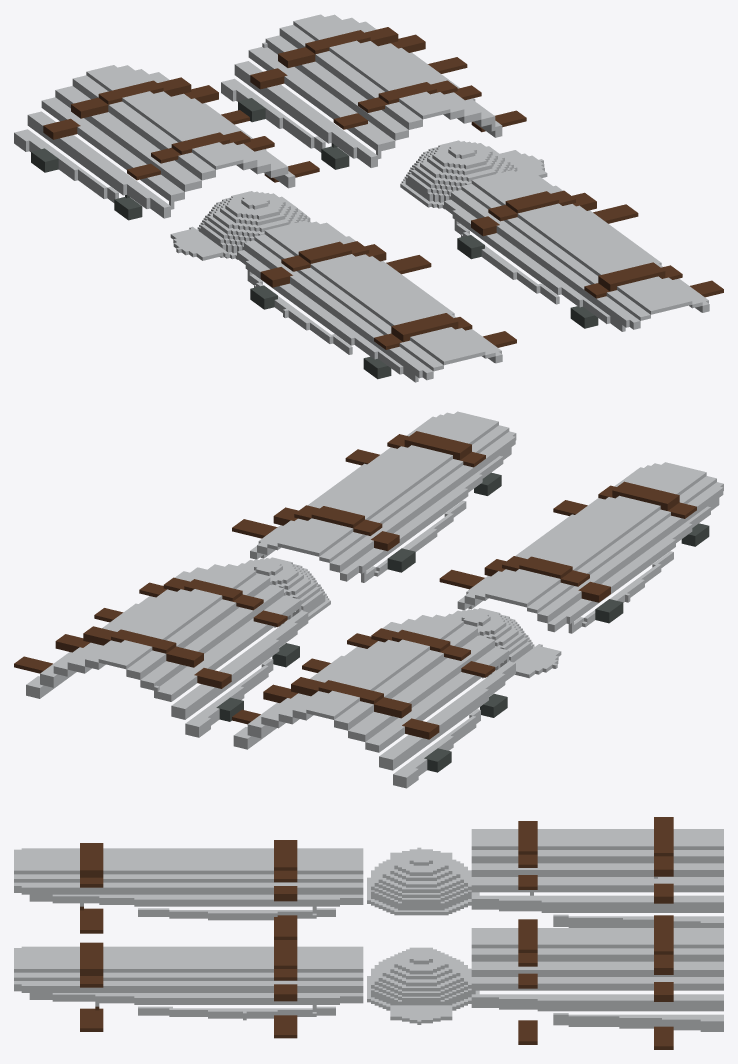
The model's file is legguard_lightplate.glb.
3 views of the same model, one above another, from view 1: azimuth 30°, elevation 25°; view 2: azimuth 150°, elevation 25°; view 3: azimuth 270°, elevation 25° (orthographic). The views are drawn at different scales.
Parts seen in each view (by area): view 1: legguard_lightplate:compound; view 2: legguard_lightplate:compound; view 3: legguard_lightplate:compound.
Part boxes in pixels (left/top/right/bottom): legguard_lightplate:compound: left=14, top=14, right=723, bottom=382; legguard_lightplate:compound: left=14, top=411, right=723, bottom=788; legguard_lightplate:compound: left=14, top=817, right=723, bottom=1049.
Bounding box in the file's own units: 0.492 × 0.06 × 0.732.
